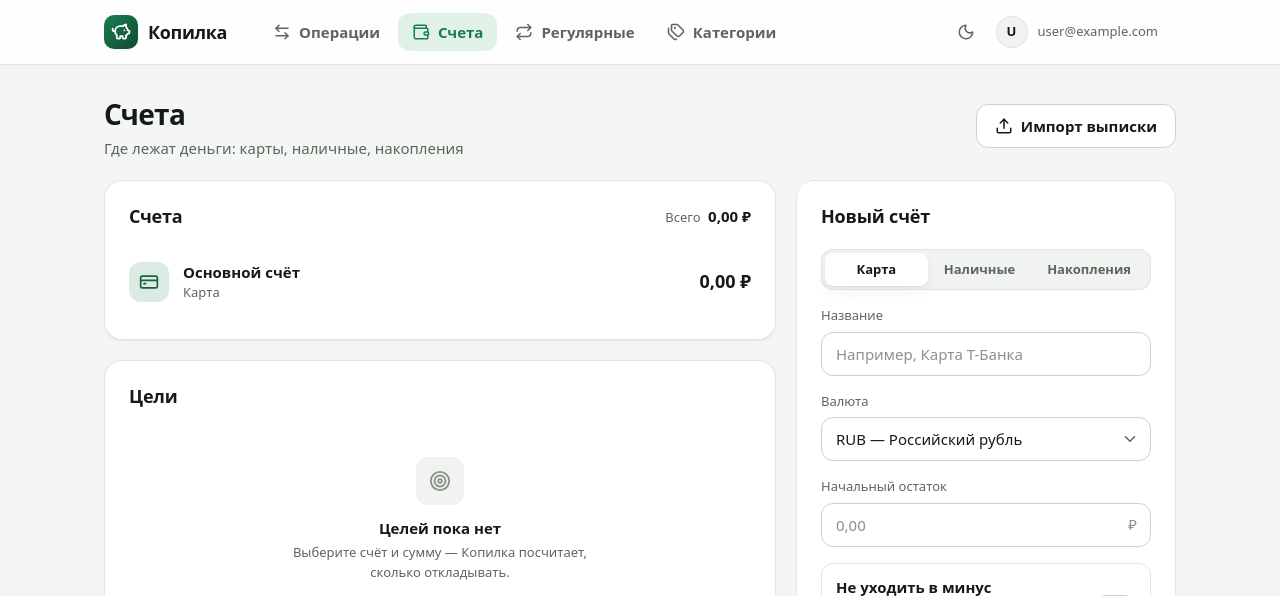
SettingsPage › is linked from the header
Step 1. Click the link with aria-label "Безопасность аккаунта" → (1080, 32), box [992,12,1168,52]
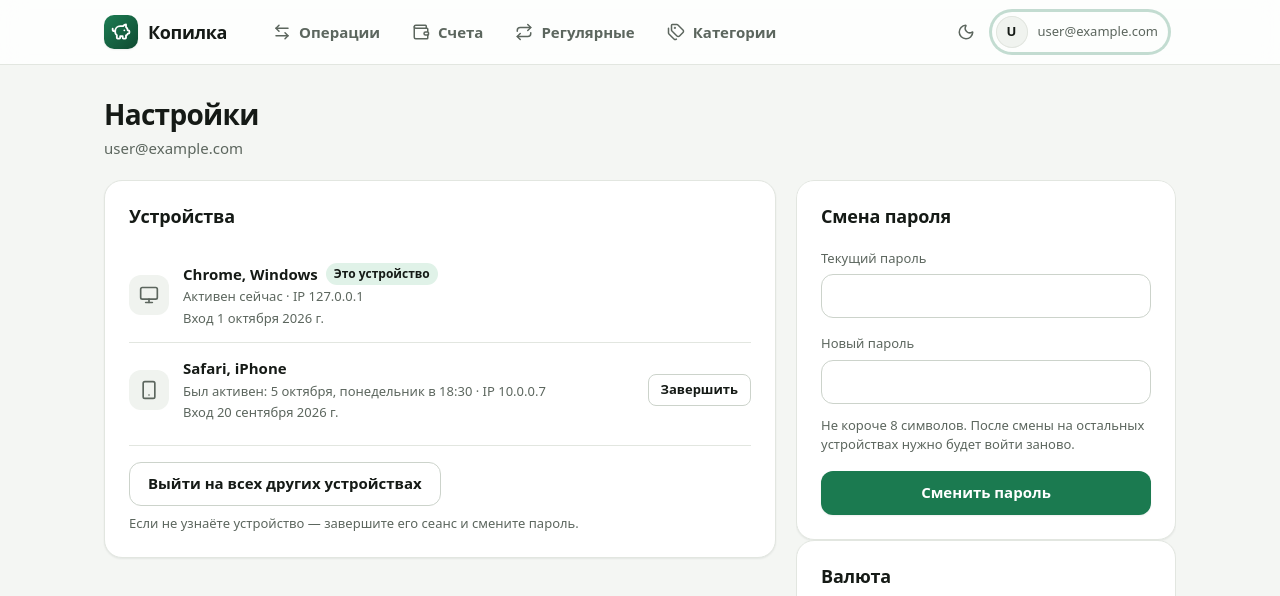
Check: the heading "Настройки" is shown, box [104,95,259,133]
